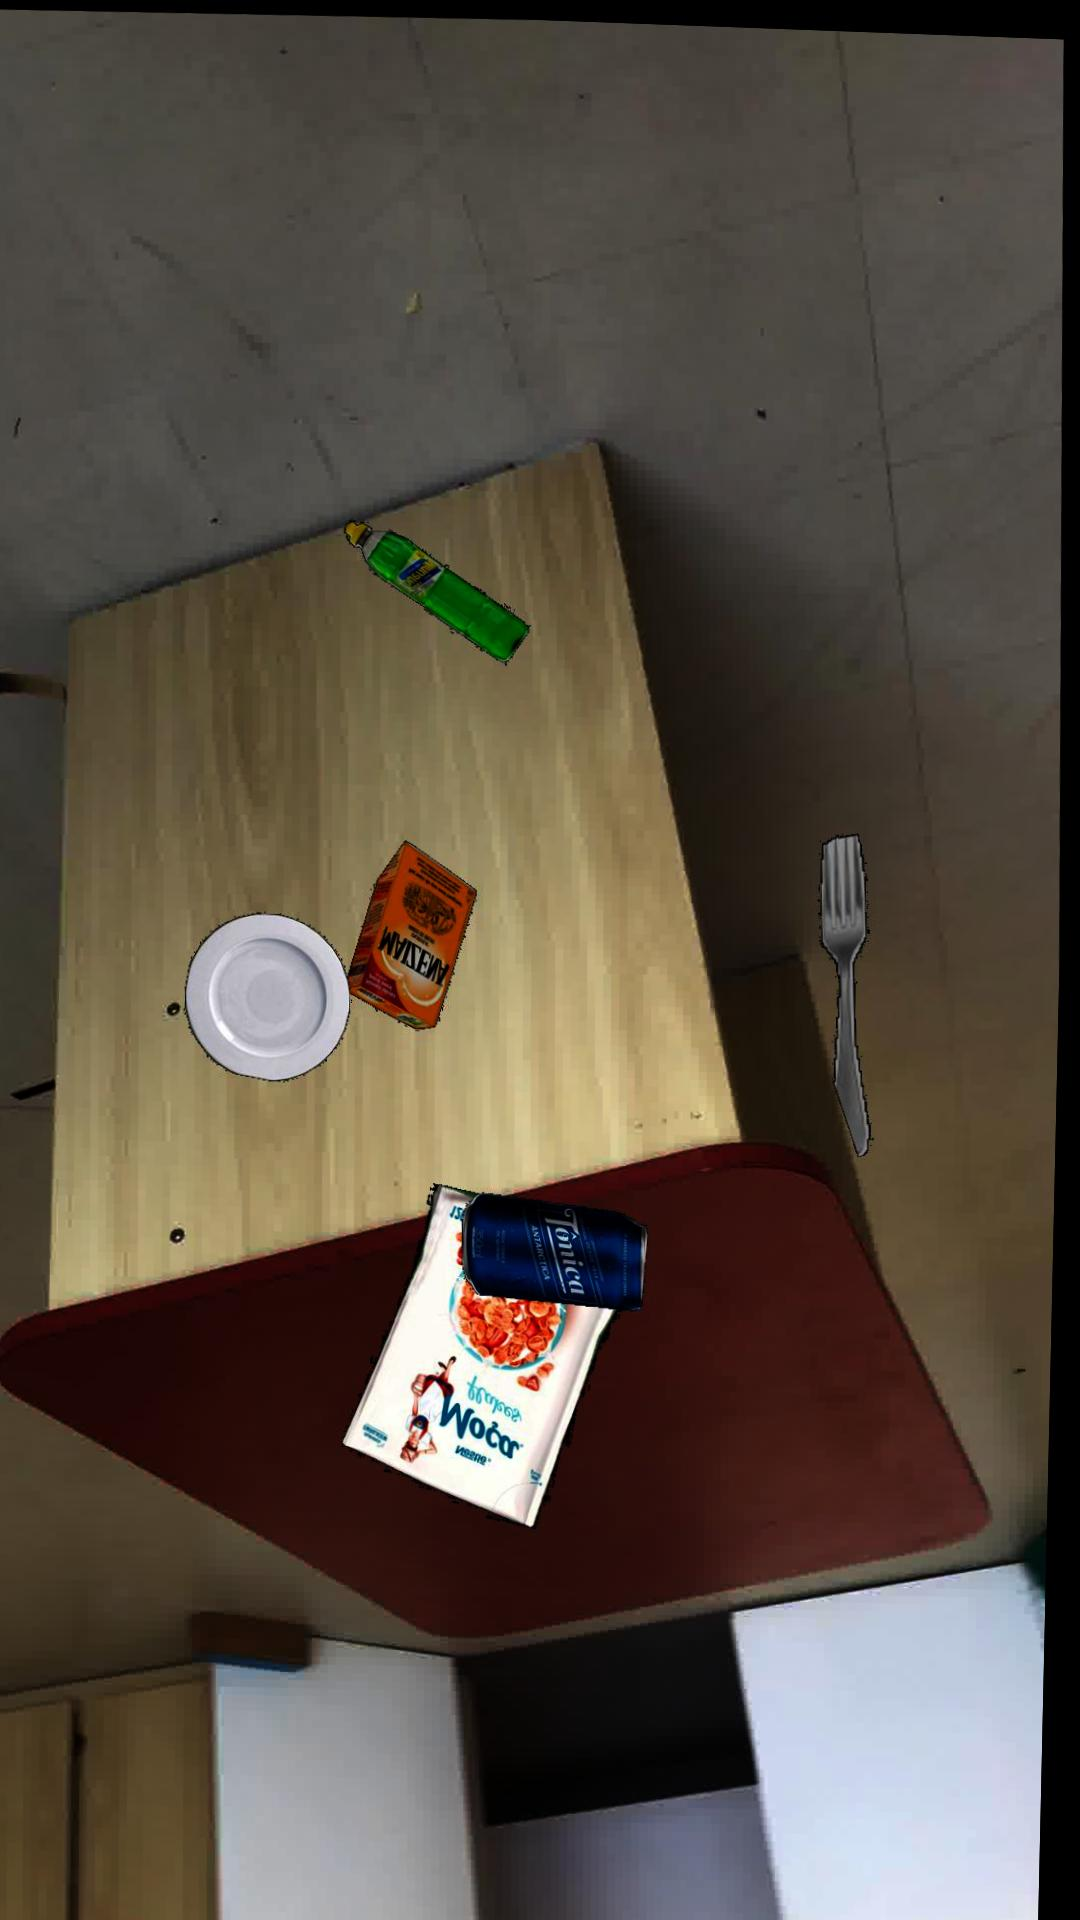cleaner: (348, 519, 534, 660)
corn flakes: (350, 1181, 626, 1526)
fork: (824, 828, 877, 1151)
plate: (191, 912, 356, 1080)
tonic: (469, 1190, 655, 1308)
